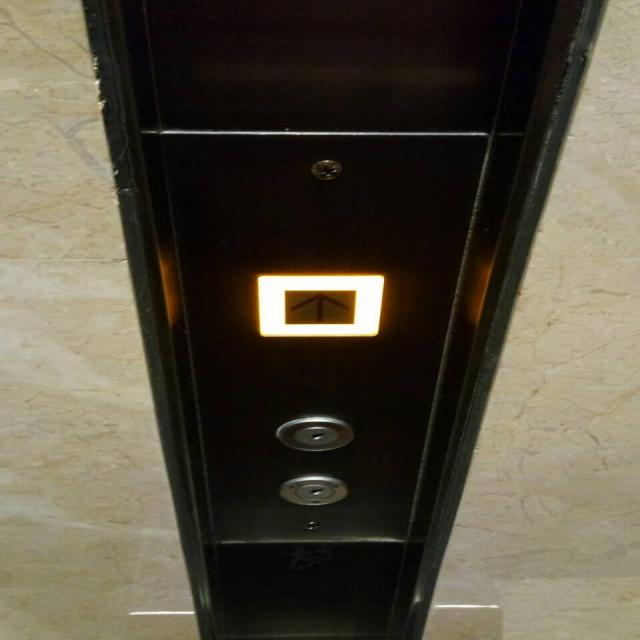keyhole: (272, 415, 354, 452), (274, 473, 350, 507)
up: (248, 271, 383, 341)
